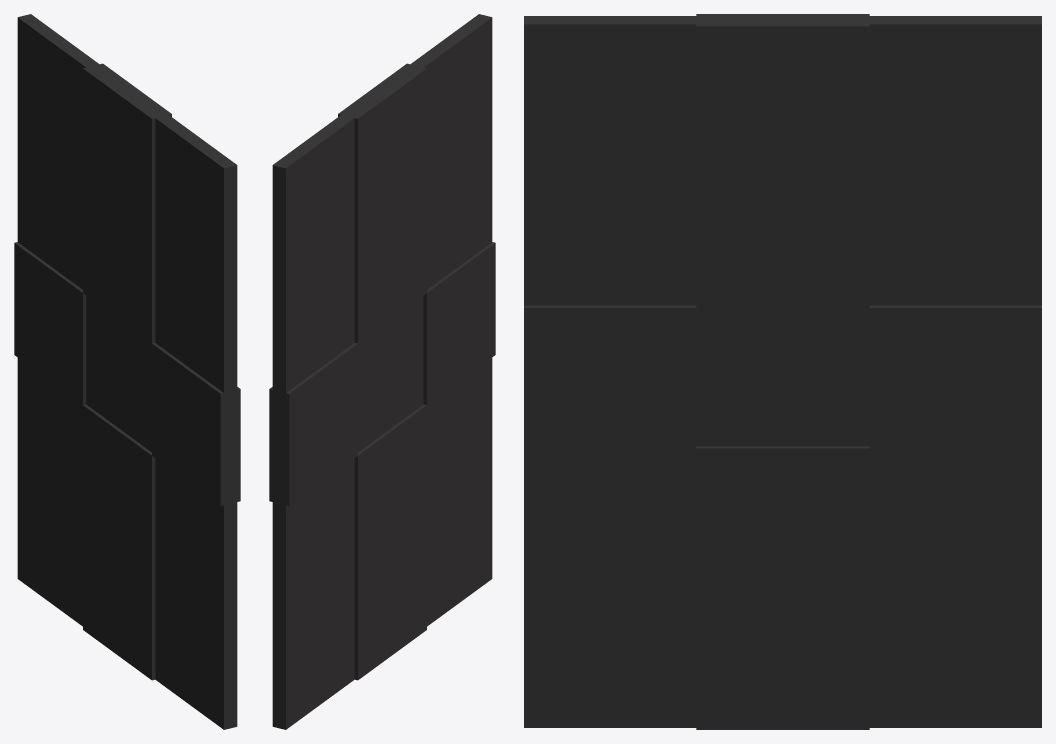
Rendered from drzwi1.obj.
3 renders of one model, left to right at view 1: azimuth 30°, elevation 25°; view 2: azimuth 150°, elevation 25°; view 3: azimuth 270°, elevation 25°, orthographic. The views are drawn at different scales.
Visible parts, largest first — view 1: Drzwi.NR1_Cube.033; view 2: Drzwi.NR1_Cube.033; view 3: Drzwi.NR1_Cube.033.
Part boxes in pixels (box(x1,y1,x2,y2)): Drzwi.NR1_Cube.033: box(14, 14, 240, 729); Drzwi.NR1_Cube.033: box(269, 14, 495, 729); Drzwi.NR1_Cube.033: box(524, 14, 1041, 729).
Bounding box in the file's own units: 0.2236 × 6 × 4.
1 material, 1 textured.
